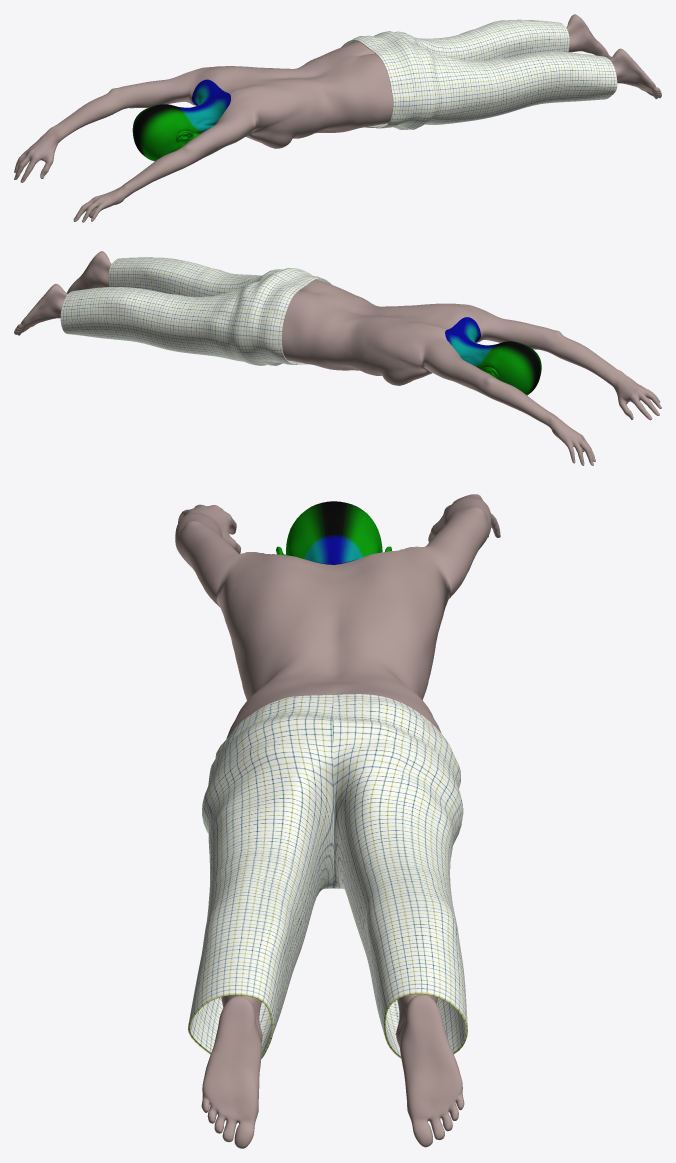
The model's file is lao-QingHuaJiZhu.fbx.
The picture shows the model from 3 angles, top to bottom: view 1: azimuth 30°, elevation 25°; view 2: azimuth 150°, elevation 25°; view 3: azimuth 270°, elevation 25°; orthographic projection. The views are drawn at different scales.
Visible parts, largest first — view 1: polySurface864, low1; view 2: polySurface864, low1; view 3: low1, polySurface864.
Boxes of the visible parts, x1,y1,x2,y2 form: polySurface864: [14, 14, 661, 222]; low1: [341, 19, 617, 129]; polySurface864: [14, 251, 661, 465]; low1: [60, 257, 331, 365]; low1: [188, 694, 467, 1058]; polySurface864: [175, 494, 500, 1148].
Bounding box in the file's own units: 197 × 32.08 × 46.91.
Materials: 2 (1 with a texture image).
